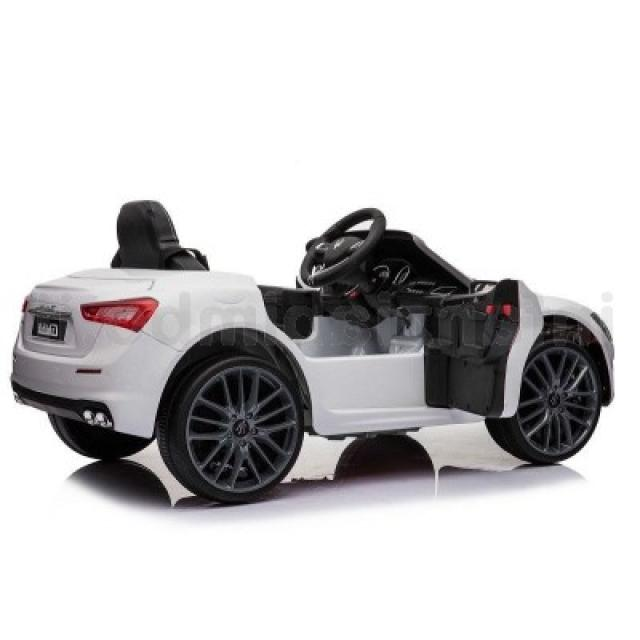Car: (10, 198, 616, 506)
